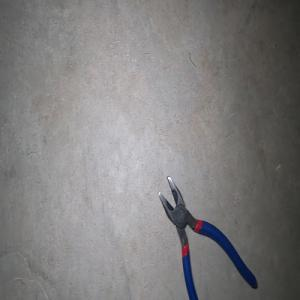Pliers: (157, 175, 257, 300)
